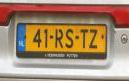1: (33, 27, 42, 49), (43, 28, 49, 49)
R: (55, 27, 64, 48)
S: (64, 28, 74, 48)
T: (79, 28, 88, 49)
Z: (89, 29, 98, 49)
